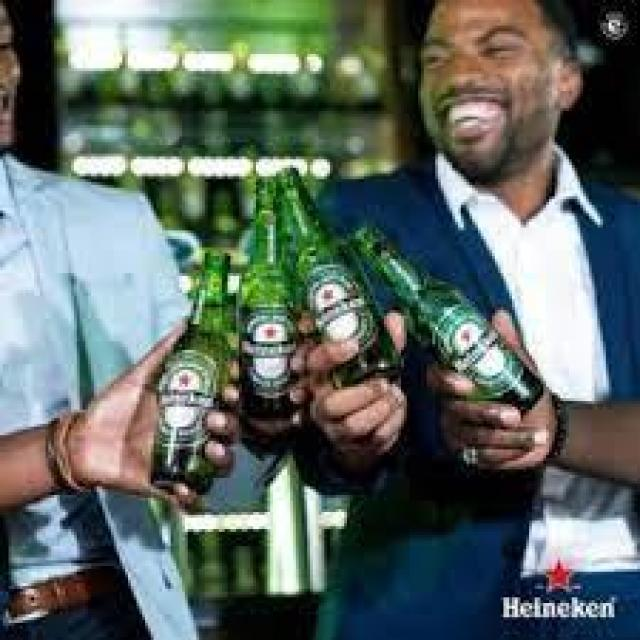beer-bottle: (334, 212, 560, 440), (266, 159, 414, 398), (134, 242, 242, 500), (228, 159, 317, 441)
